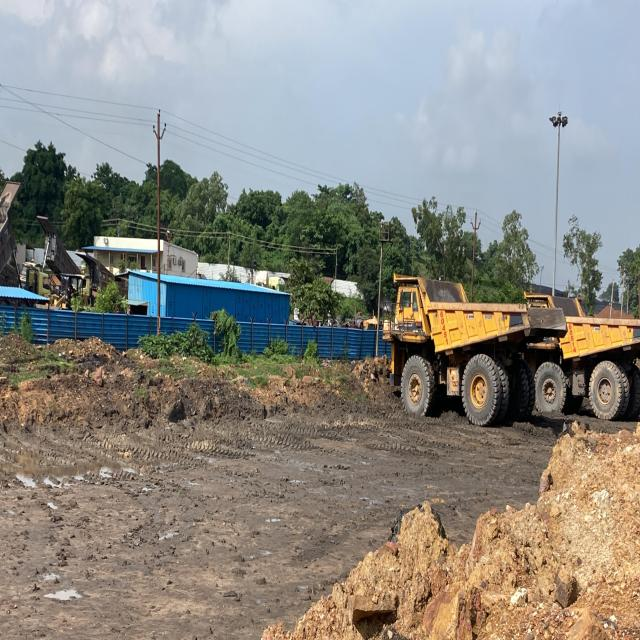dump_truck: (392, 273, 567, 436), (524, 278, 640, 426)
